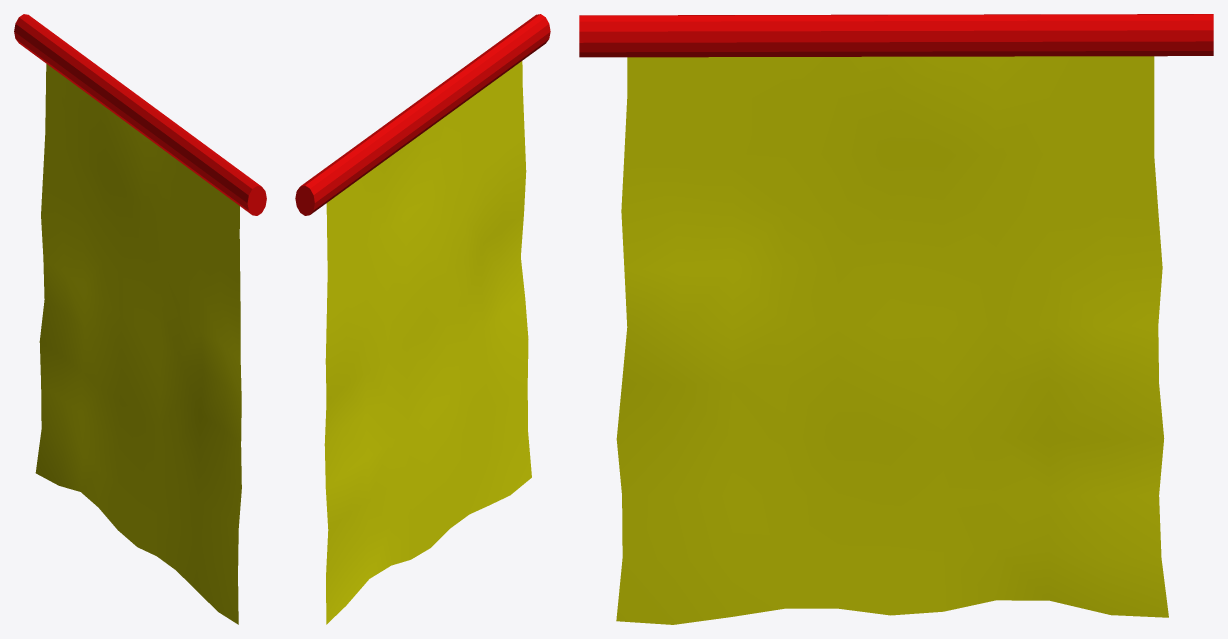
Rendered from Poster.fbx.
The picture shows the model from 3 angles, left to right: view 1: azimuth 30°, elevation 25°; view 2: azimuth 150°, elevation 25°; view 3: azimuth 270°, elevation 25°; orthographic projection. The views are drawn at different scales.
Parts seen in each view (by area): view 1: pPlane1, pCylinder1; view 2: pPlane1, pCylinder1; view 3: pPlane1, pCylinder1.
Part boxes in pixels (<box>): pPlane1: <box>35,64,241,624</box>; pCylinder1: <box>14,14,266,215</box>; pPlane1: <box>324,61,531,624</box>; pCylinder1: <box>295,14,550,215</box>; pPlane1: <box>616,56,1168,624</box>; pCylinder1: <box>579,14,1213,57</box>.
Size of the model in its own units: 9.17 by 204 by 191.
